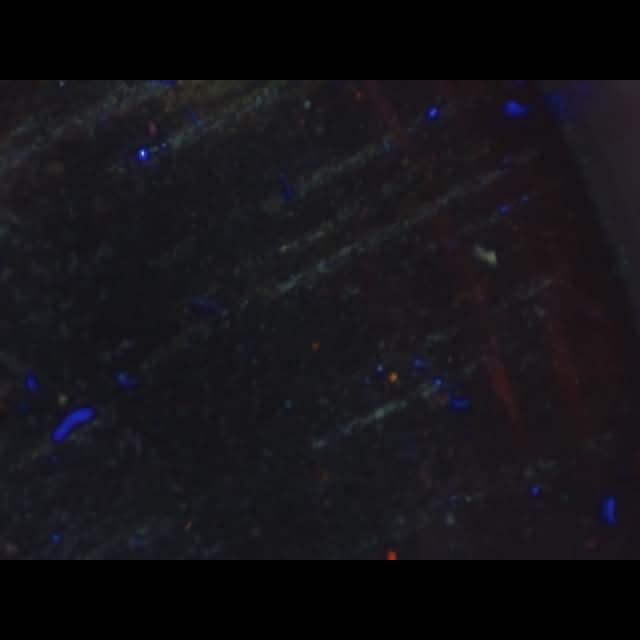microbeads: (473, 241, 499, 267)
